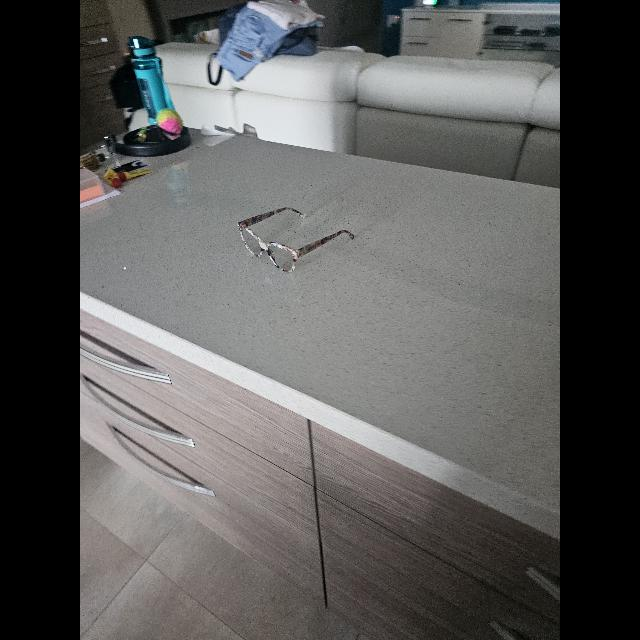glasses: (238, 208, 354, 272)
